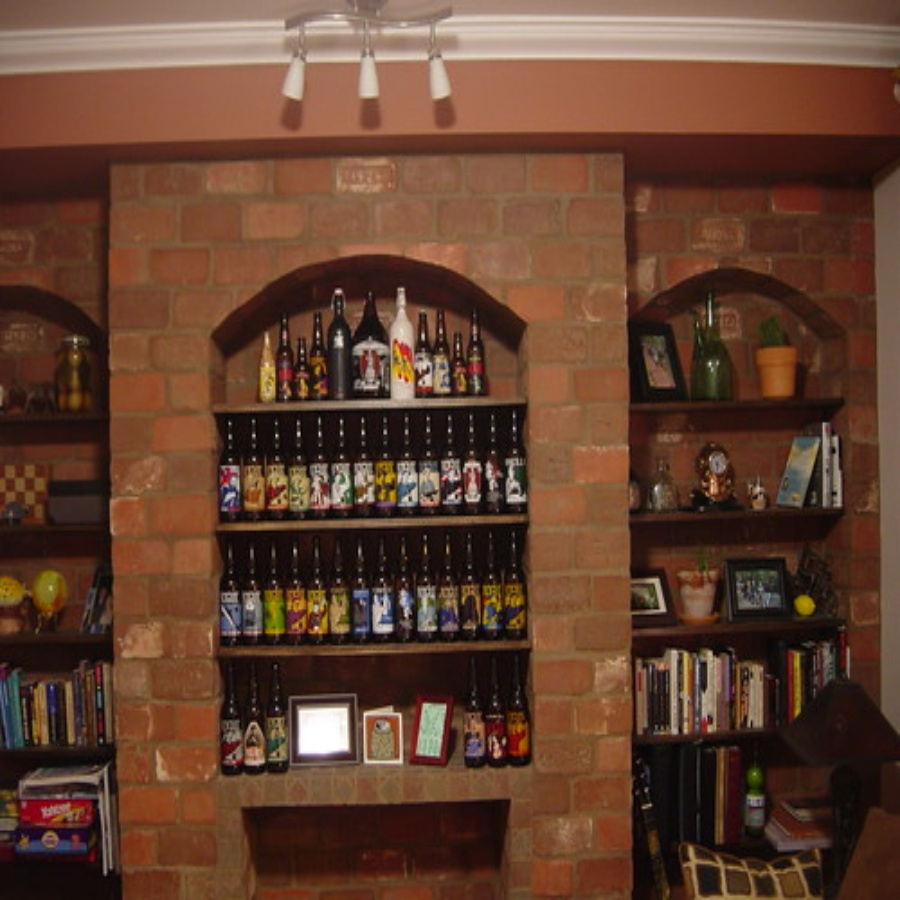beer: (353, 289, 393, 402), (238, 418, 279, 521), (433, 417, 471, 513), (365, 546, 401, 644), (260, 544, 294, 646), (371, 417, 404, 514), (435, 540, 461, 644), (223, 669, 248, 772)
